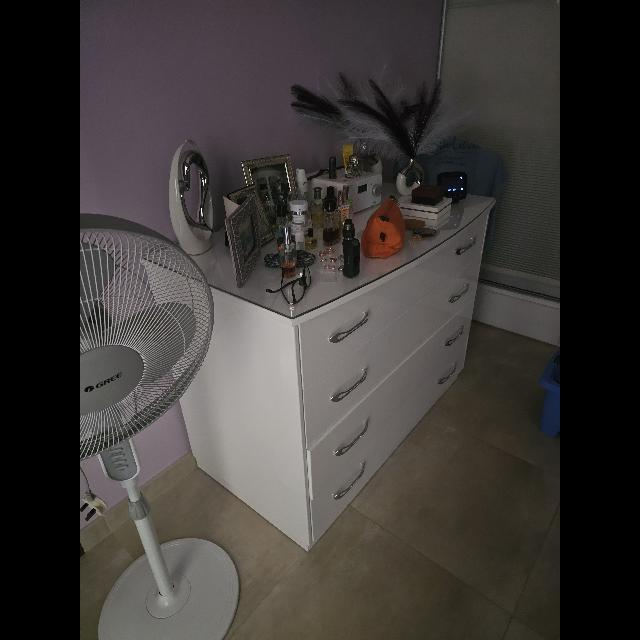glasses: (266, 265, 312, 305)
